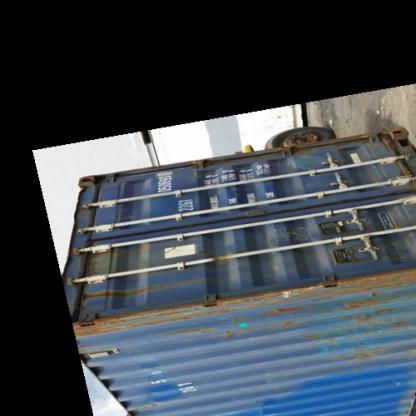Damage: (70, 296, 258, 342), (276, 307, 392, 372), (252, 270, 404, 316)
